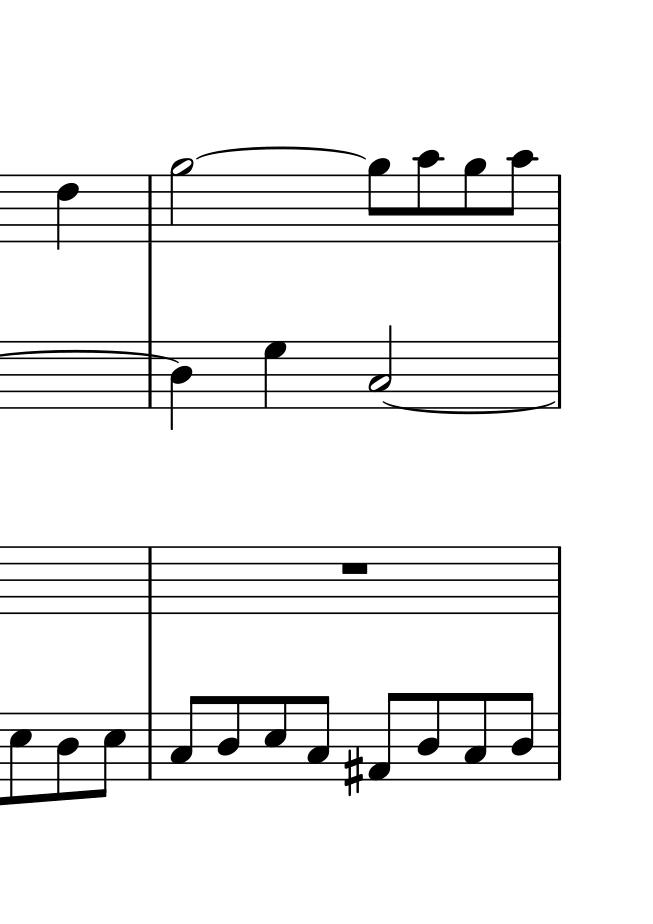2_3: (369, 321, 395, 410)
2_9: (169, 157, 196, 244)
4_4: (169, 340, 194, 429)
4_6: (56, 172, 81, 252)
4_7: (263, 340, 288, 407)
8_1: (365, 692, 409, 781)
8_10: (503, 149, 536, 246), (414, 149, 441, 244)
8_3: (170, 694, 202, 781), (463, 691, 490, 784), (307, 693, 331, 784)
8_4: (416, 691, 442, 782), (215, 695, 242, 780), (512, 691, 537, 781), (55, 712, 79, 803)
8_5: (97, 710, 127, 797), (8, 711, 33, 807), (263, 694, 287, 782)
8_9: (367, 158, 393, 244), (462, 158, 487, 244)
Rests1: (340, 558, 372, 577)
Sharp: (345, 746, 364, 798)
Single_barline: (544, 173, 570, 242), (546, 546, 571, 614), (545, 712, 569, 781), (546, 340, 568, 409), (138, 712, 160, 780), (139, 175, 161, 242), (139, 341, 161, 408), (141, 546, 160, 615)
Slur: (381, 399, 555, 415), (196, 146, 368, 161)
